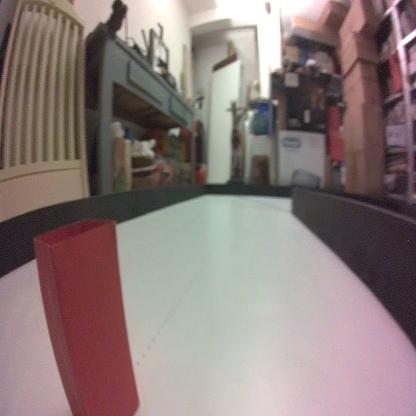red: (32, 217, 141, 416)
